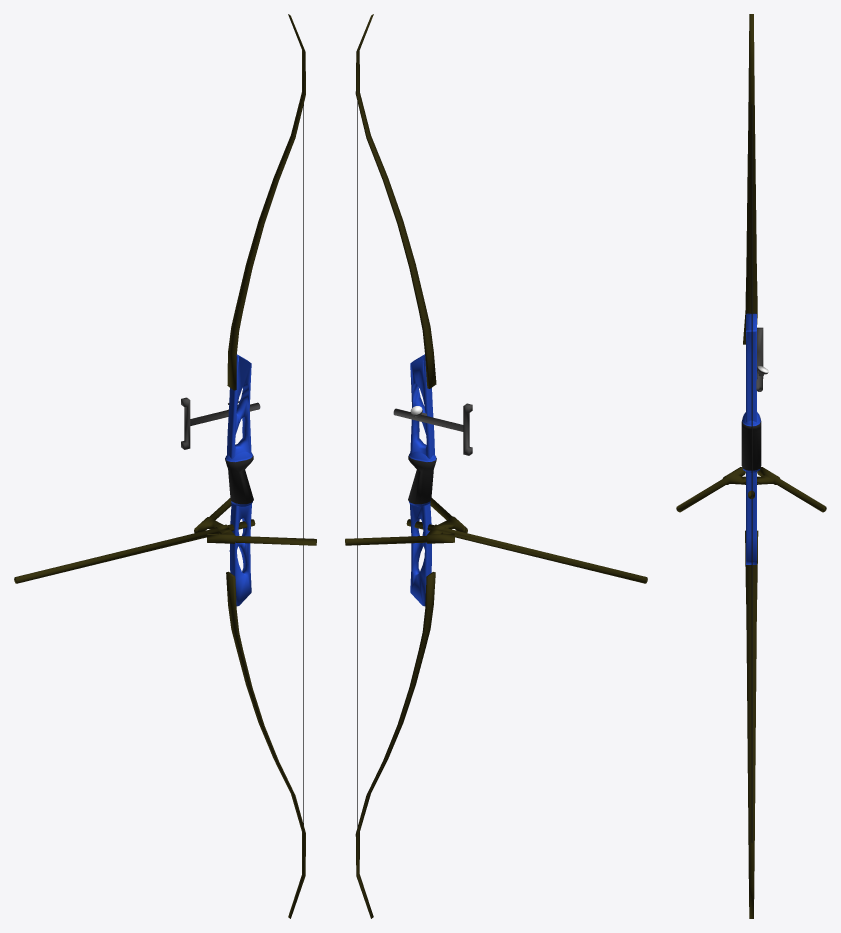
Rendered from adobe_arc_classique.gltf.
3 renders of one model, left to right at view 1: azimuth 30°, elevation 25°; view 2: azimuth 150°, elevation 25°; view 3: azimuth 270°, elevation 25°, orthographic.
Visible parts, largest first — view 1: arc_classique; view 2: arc_classique; view 3: arc_classique.
Boxes of the visible parts, x1,y1,x2,y2 form: arc_classique: (14,14,316,918); arc_classique: (345,14,647,918); arc_classique: (676,14,826,918).
Bounding box in the file's own units: 0.5662 × 1.69 × 0.255.
Materials: 1 (1 with a texture image).
